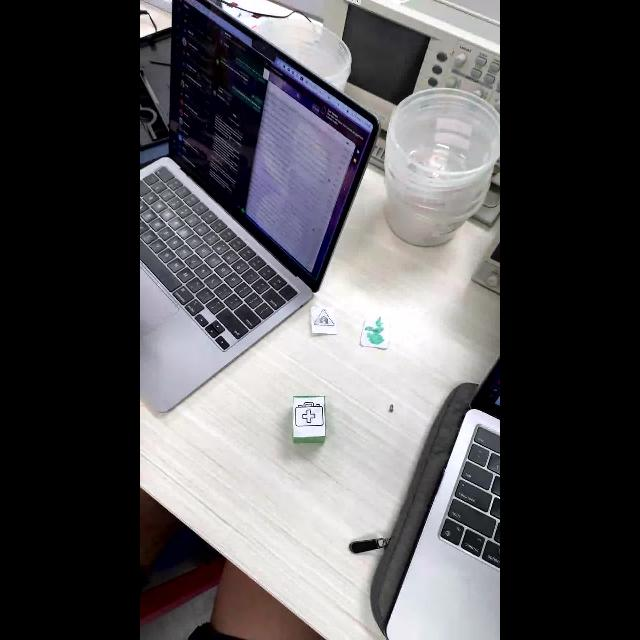Medkit: (295, 401, 323, 427)
